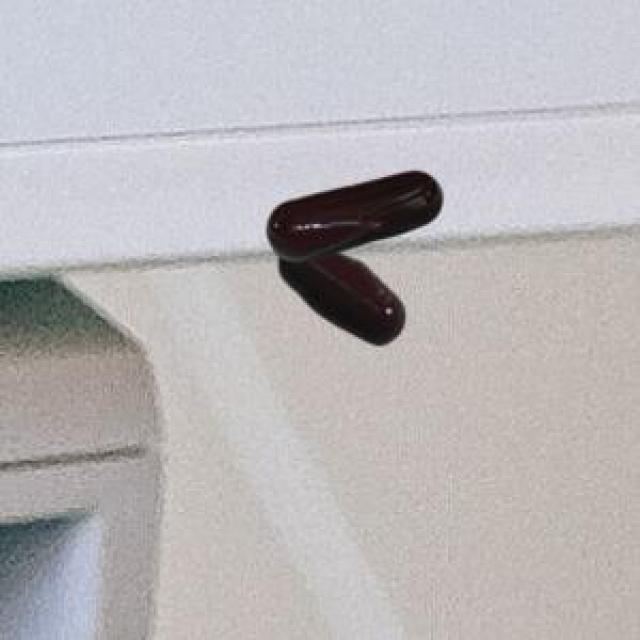DayZinc: (247, 153, 456, 360)
